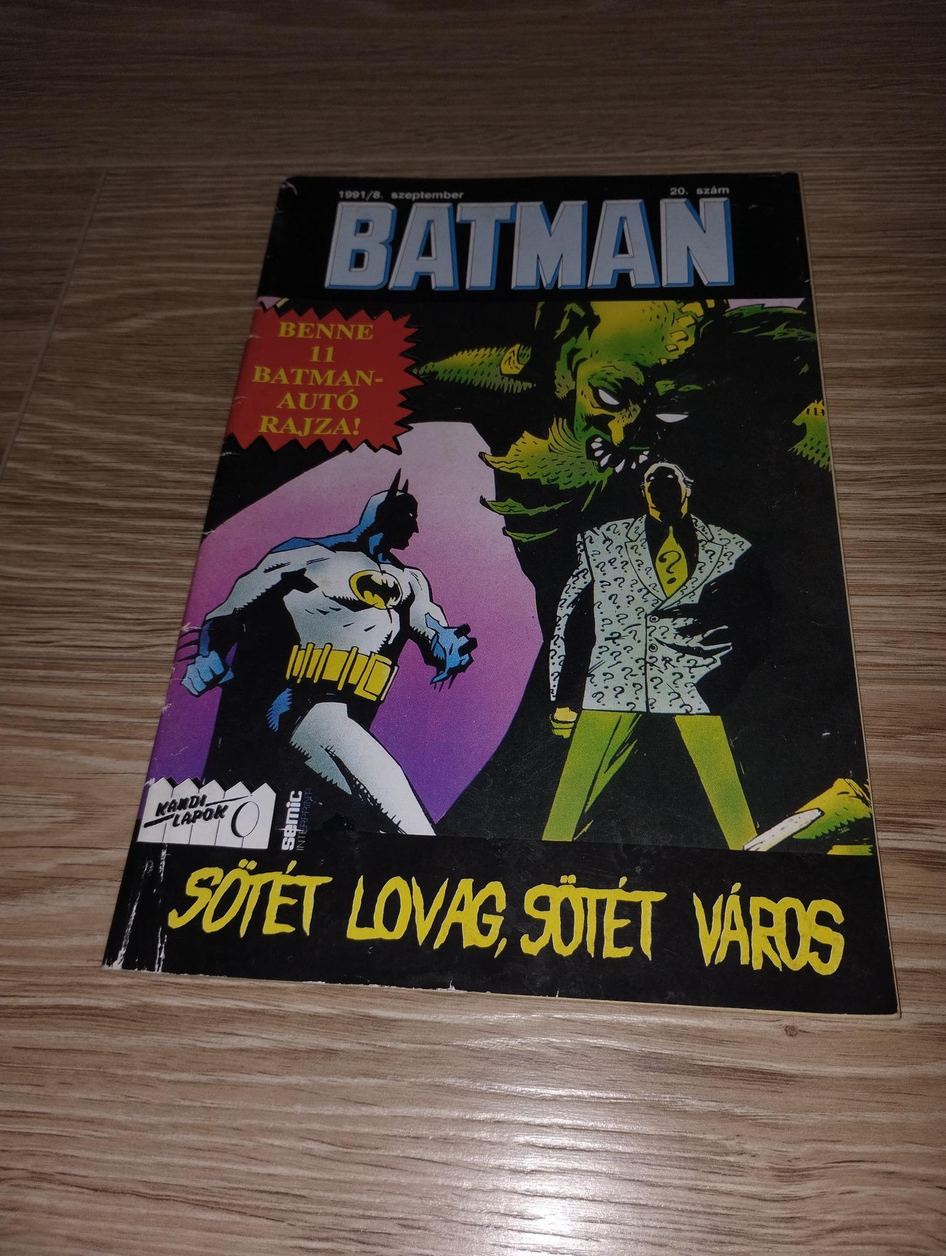comic: (105, 135, 946, 1016)
